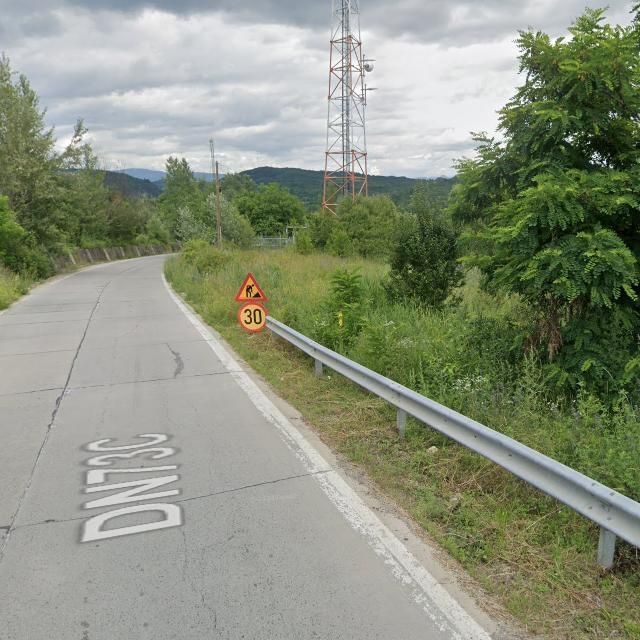forb_speed_over_30: (238, 302, 268, 332)
